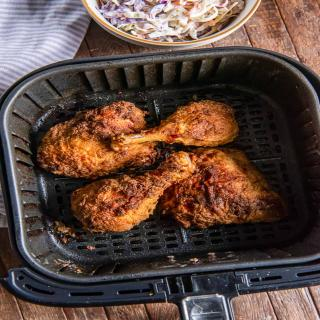fried_chicken_rice: (22, 88, 296, 247)
meat: (31, 95, 290, 248)
